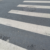others: (1, 1, 47, 19)
